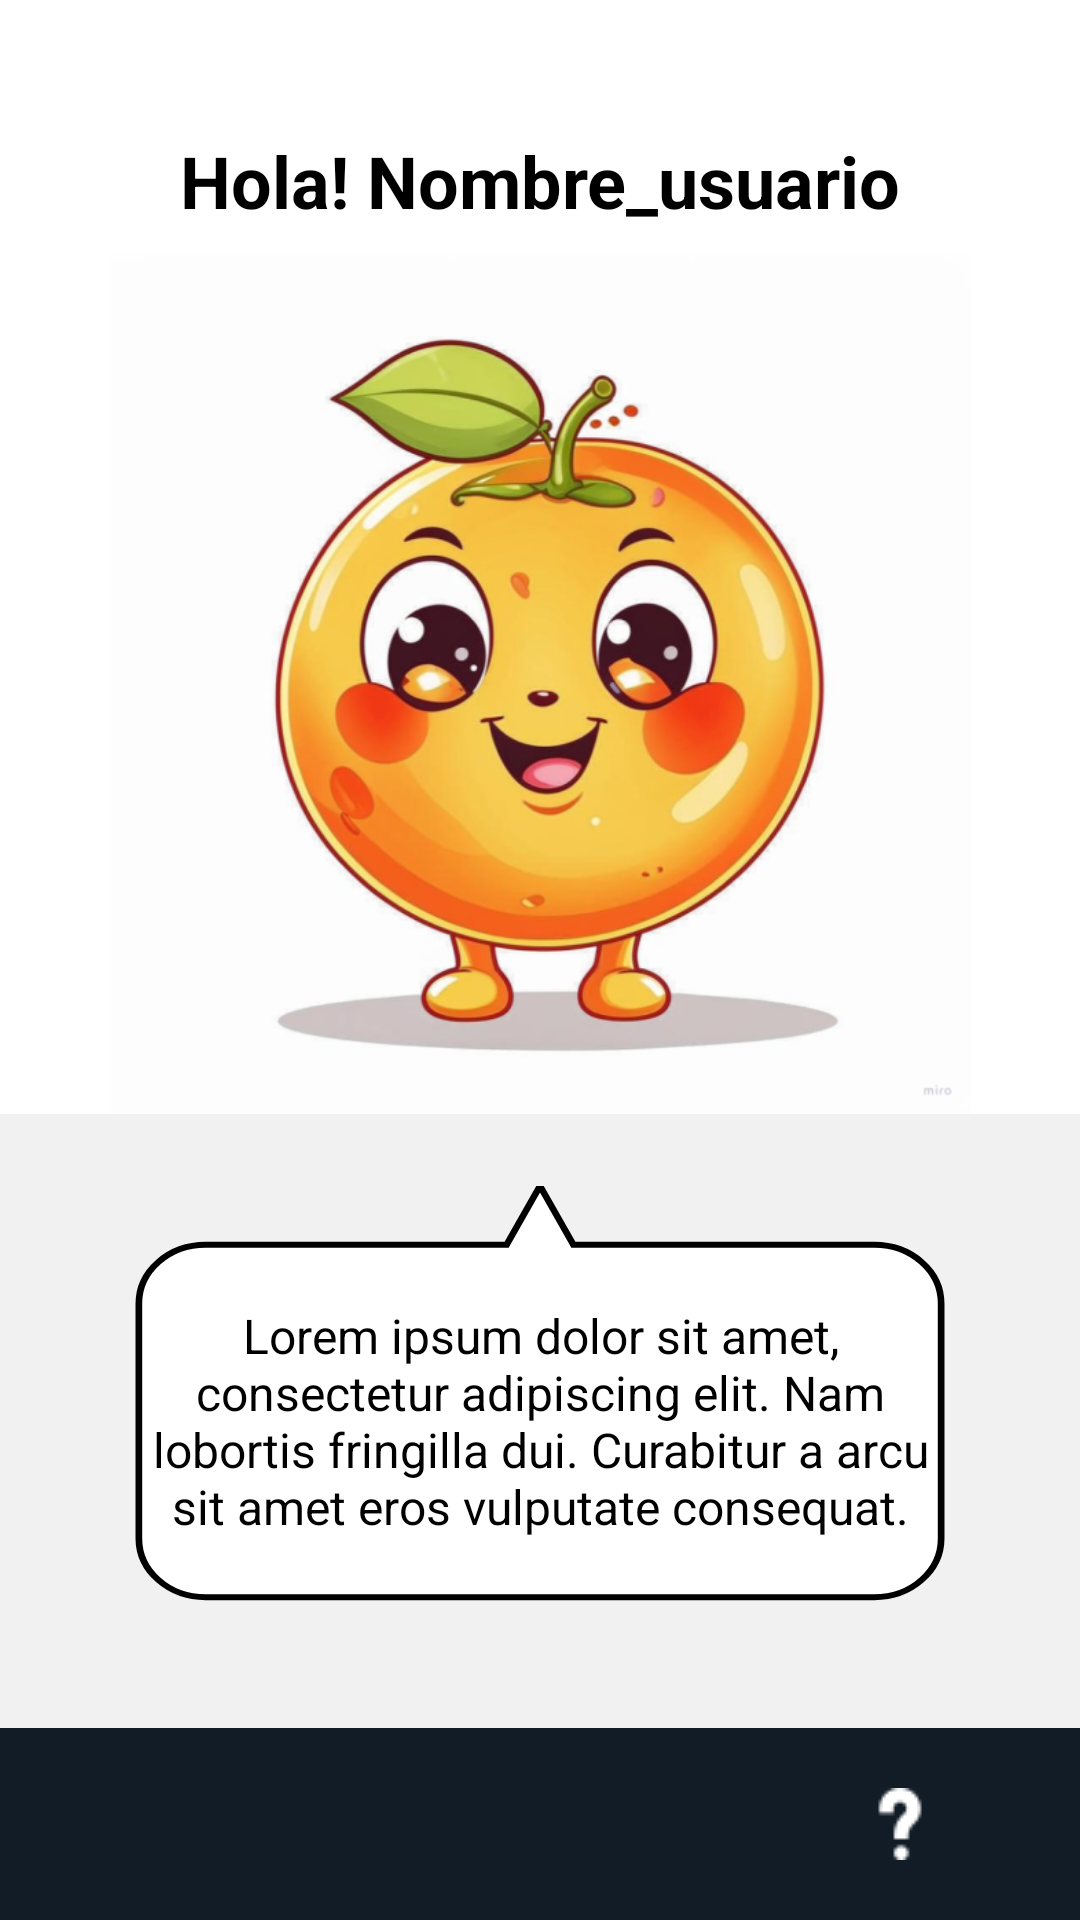

Icon click points for this 1080px x 1920px phone screenshot, format [x,y]:
question mark: [900,1824]
